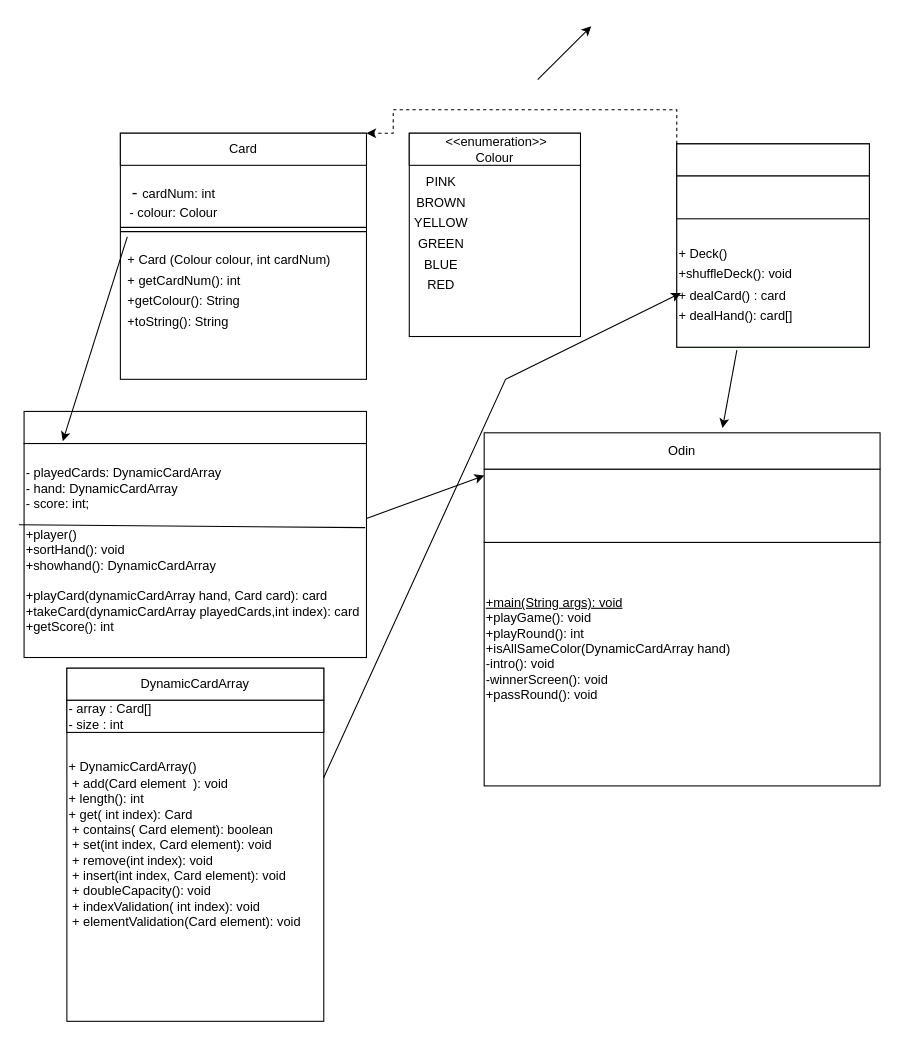
Some shapes in this 899 by 1040 pixel diagram are drawn without their labels. The shapes that lost their labels are listed below. From the top down, each one's box as (x1, y1, x2, y2) in pixels, then its label:
(676, 143, 869, 176): Deck
(676, 175, 869, 219): - arrCards: Card[] - DECK_SIZE: int
(23, 410, 366, 444): Player
(483, 468, 880, 542): - discardedCards: DynamicCardArray - middle: DynamicCardarray
